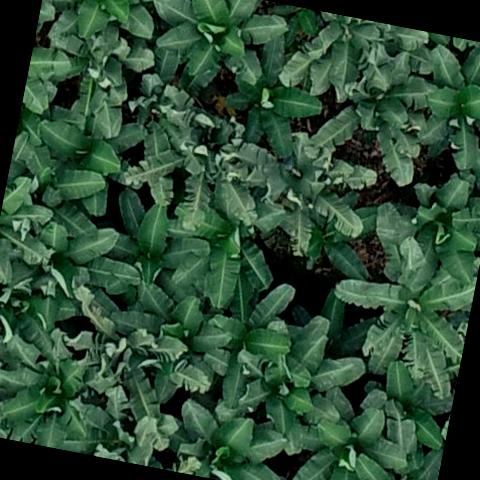Banana-plant: (319, 195, 480, 403), (214, 118, 384, 270), (220, 302, 372, 467), (116, 98, 276, 239), (304, 34, 446, 192), (46, 287, 196, 430), (0, 204, 147, 346), (80, 186, 218, 328), (3, 88, 145, 224), (181, 266, 303, 422), (18, 12, 160, 144), (102, 279, 244, 411), (134, 0, 293, 112), (154, 197, 285, 324), (276, 6, 428, 114), (0, 141, 116, 268), (271, 277, 385, 398), (0, 318, 117, 433), (215, 50, 329, 165), (352, 355, 458, 469), (405, 33, 480, 182), (391, 164, 480, 285), (290, 182, 388, 288), (301, 395, 415, 480), (36, 0, 173, 57)
